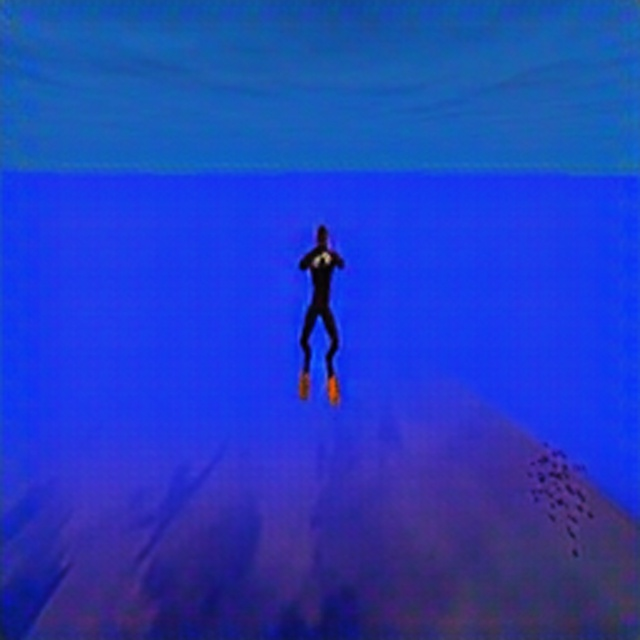diver: (294, 221, 347, 407)
